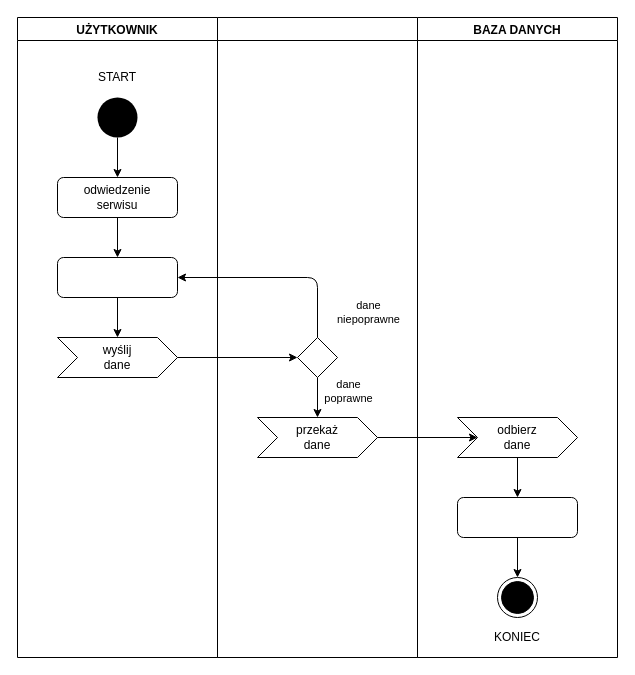
Image size: 635x675. Some labels were removed from this diagram. Each missing label, with the box of its shape:
APLIKACJA: (216, 16, 418, 658)
podanie danych rejestracji: (56, 256, 178, 298)
zapisz dane: (456, 496, 578, 538)
